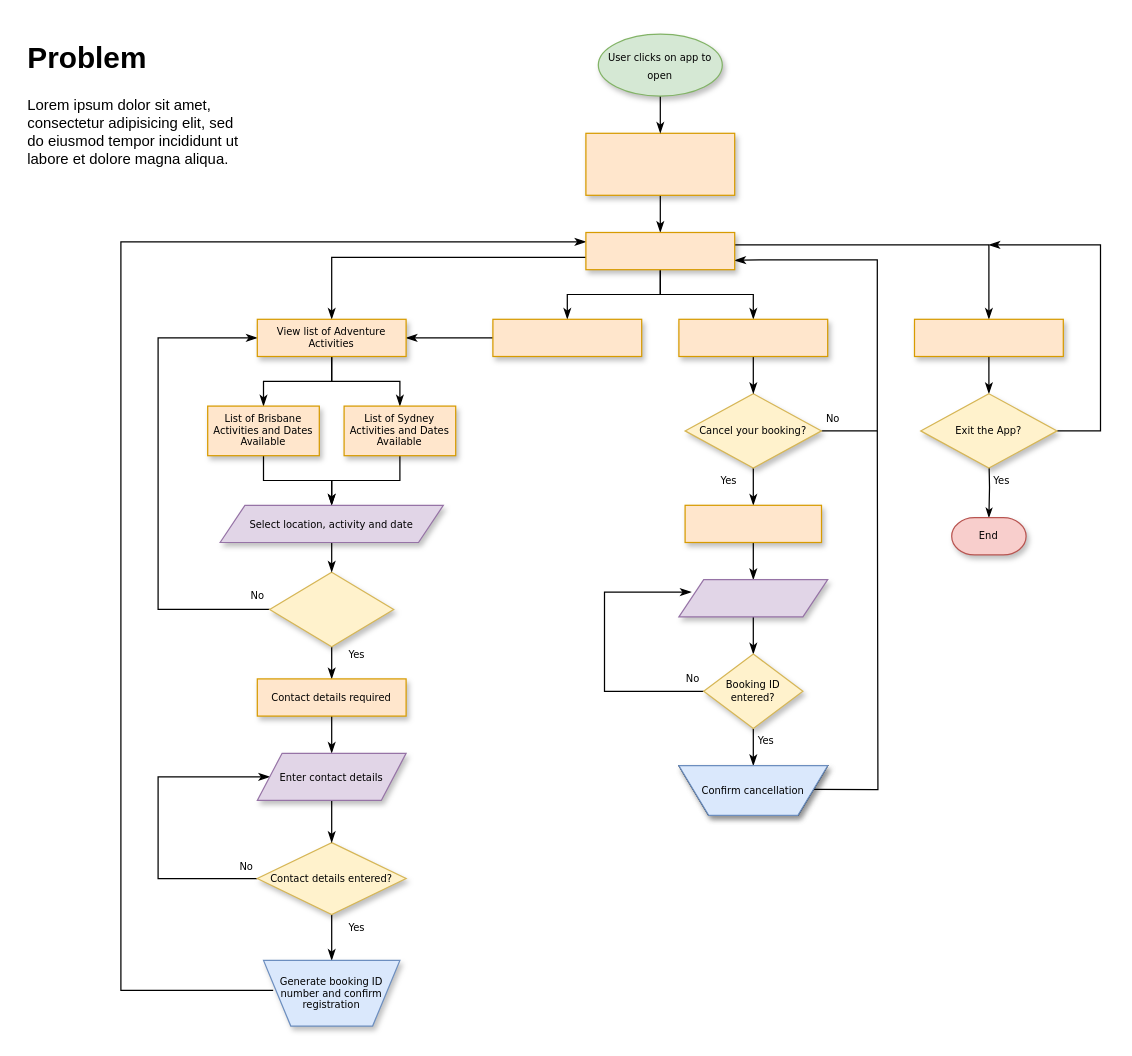
This 1132x1056 diagram has some shape labels left out. The centre of each missing label's shape, as x and y in pixels:
Book adventure?: point (332, 610)
Book an adventure: point (568, 339)
Booking ID required: point (754, 525)
Cancel your booking: point (754, 339)
Enter booking ID: point (754, 600)
Exit the App: point (989, 339)
Main menu: point (661, 252)
Welcome message is displayed and a prompt to view main menu: point (661, 165)
